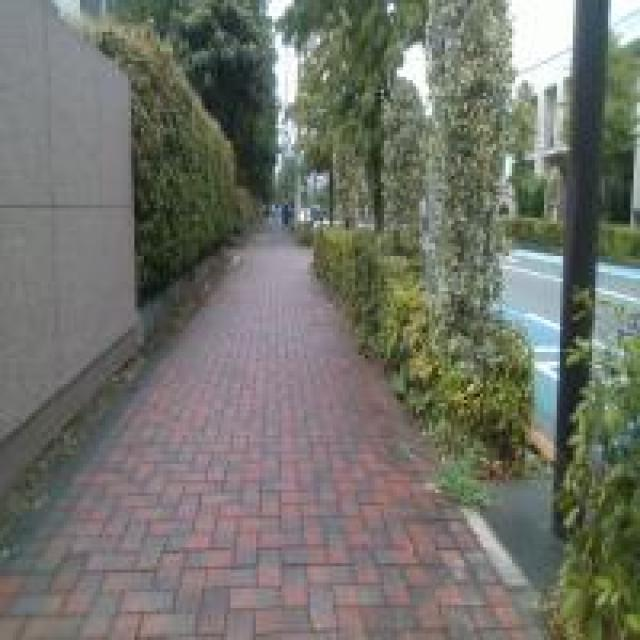Obstacle: (546, 0, 639, 639), (316, 230, 540, 482)
Road: (504, 247, 562, 437), (598, 262, 639, 344)
Sidewalk: (0, 234, 541, 639)
